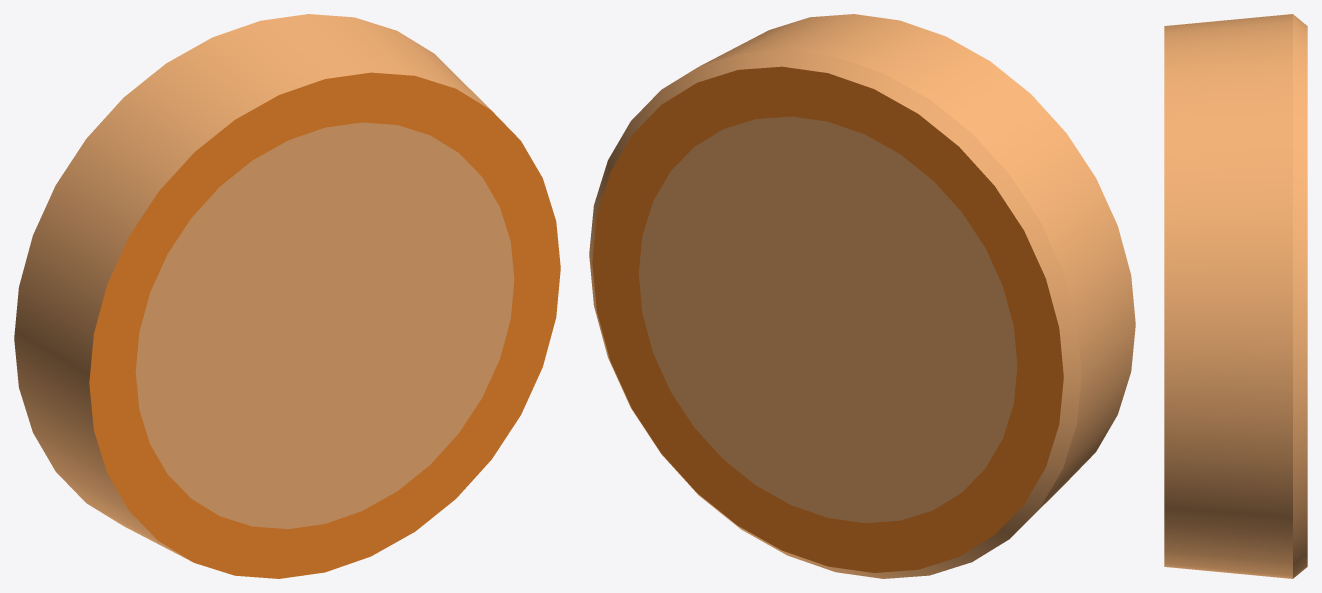
The model's file is Icon Coin C.fbx.
3 views of the same model, side by side, from view 1: azimuth 30°, elevation 25°; view 2: azimuth 150°, elevation 25°; view 3: azimuth 270°, elevation 25° (orthographic).
Visible parts, largest first — view 1: Coin C; view 2: Coin C; view 3: Coin C.
Part boxes in pixels (bbox=[...]): Coin C: bbox=[14, 14, 560, 578]; Coin C: bbox=[589, 14, 1135, 578]; Coin C: bbox=[1164, 14, 1307, 578].
Bounding box in the file's own units: 70.29 × 70.29 × 17.78.
